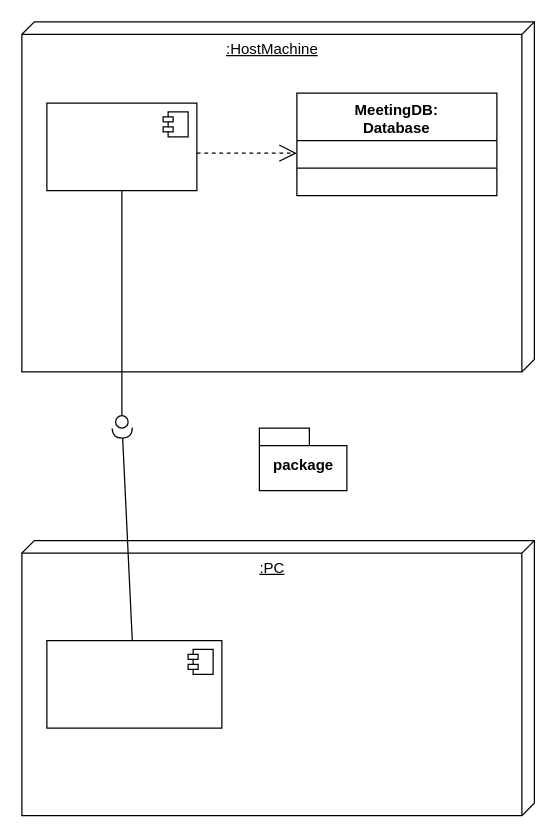
The diagram is 556 pixels wide and 838 high, and some of its shapes have lost their labels. The shapes that lost their labels are listed below. From the top down, each one's centre as x and y in pixels, then its label:
At (121,146): ":Scheduler".
At (134,683): ":Planner".
